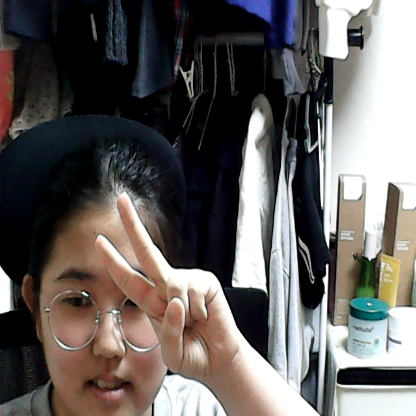Finger_2: (86, 184, 250, 389)
